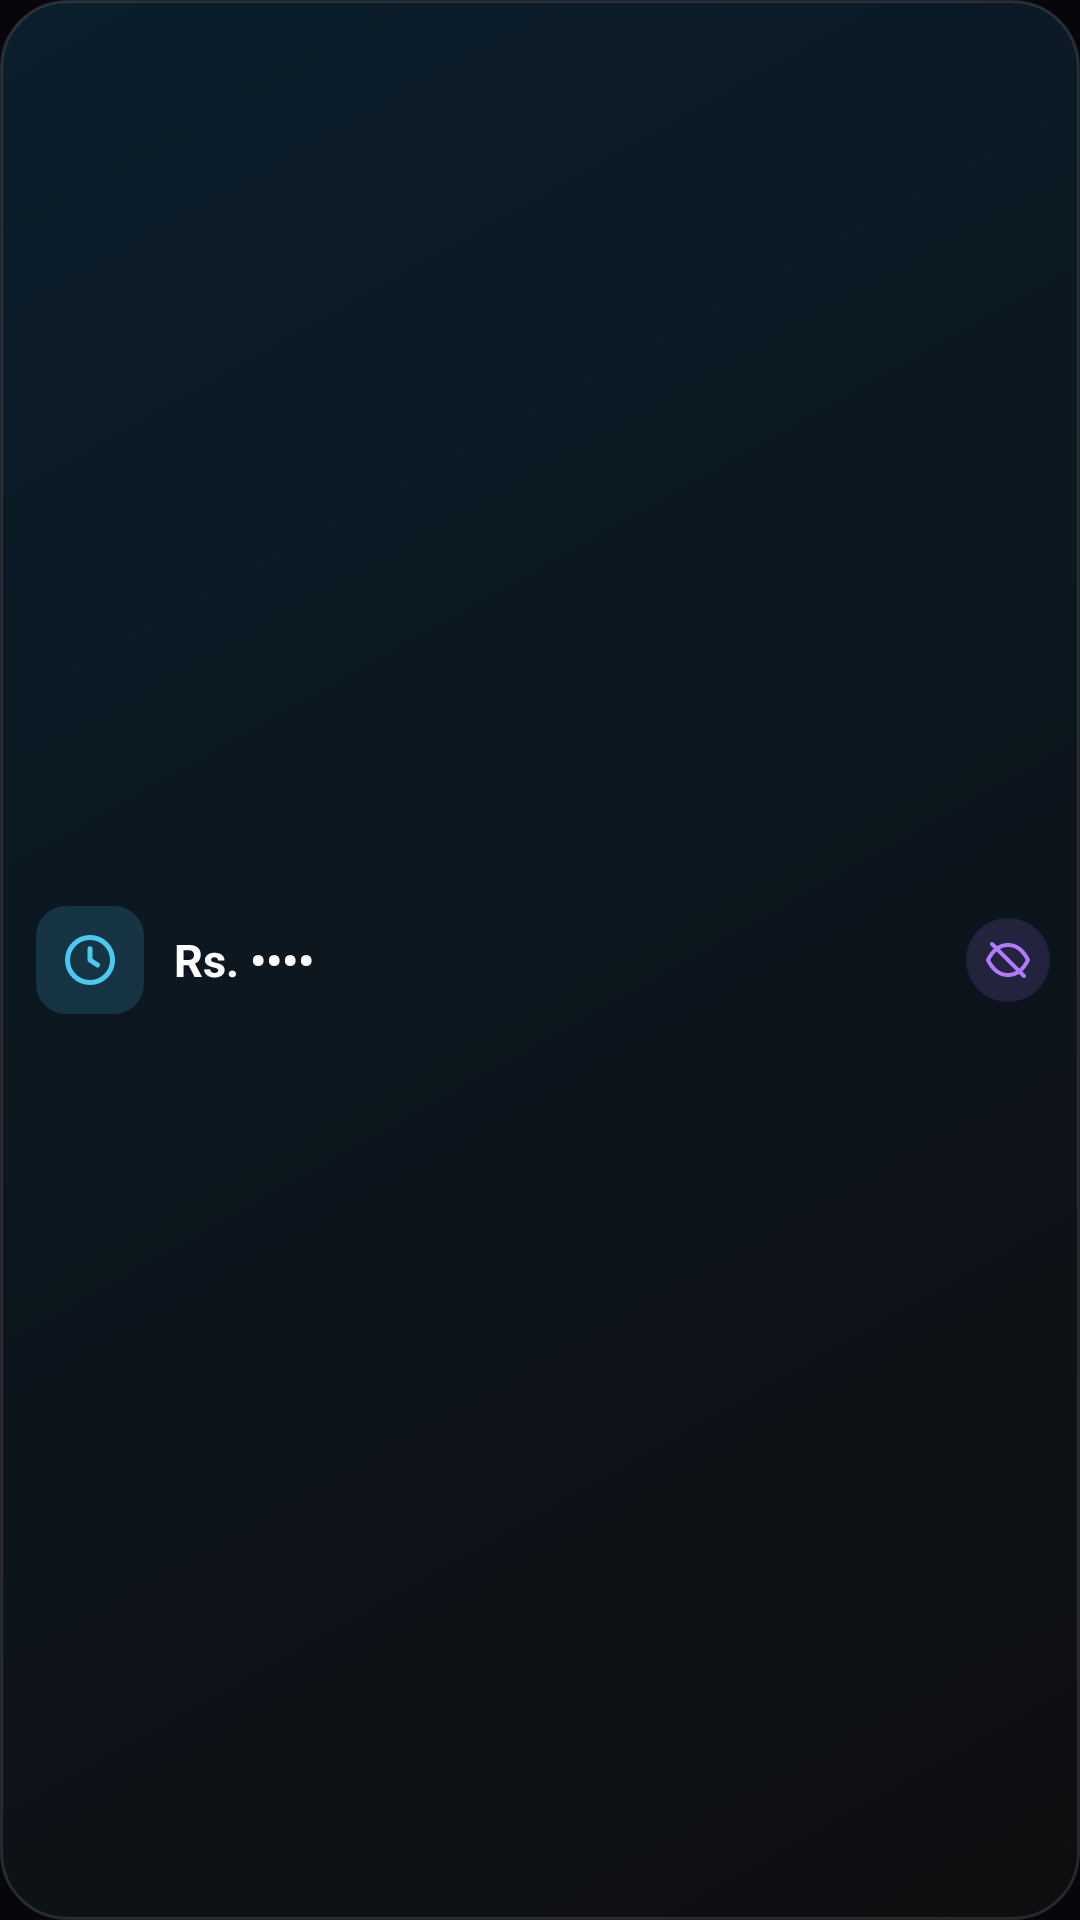

Icon click points for this 1080×1920 phone screenshot, format (x,y):
recent: (90,960)
Show amounts: (1008,960)
